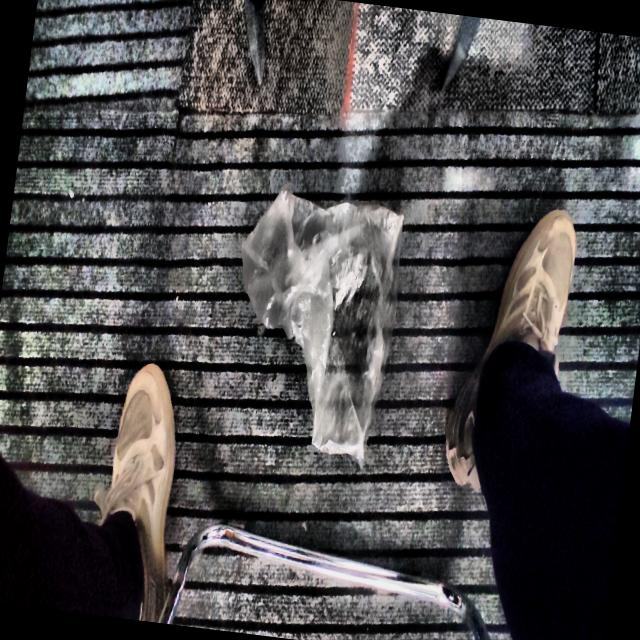plastic bag: (241, 189, 403, 464)
